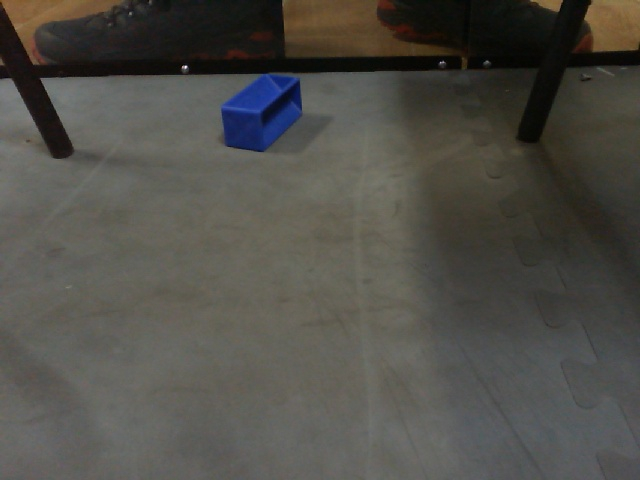BlueSample: (219, 73, 306, 156)
